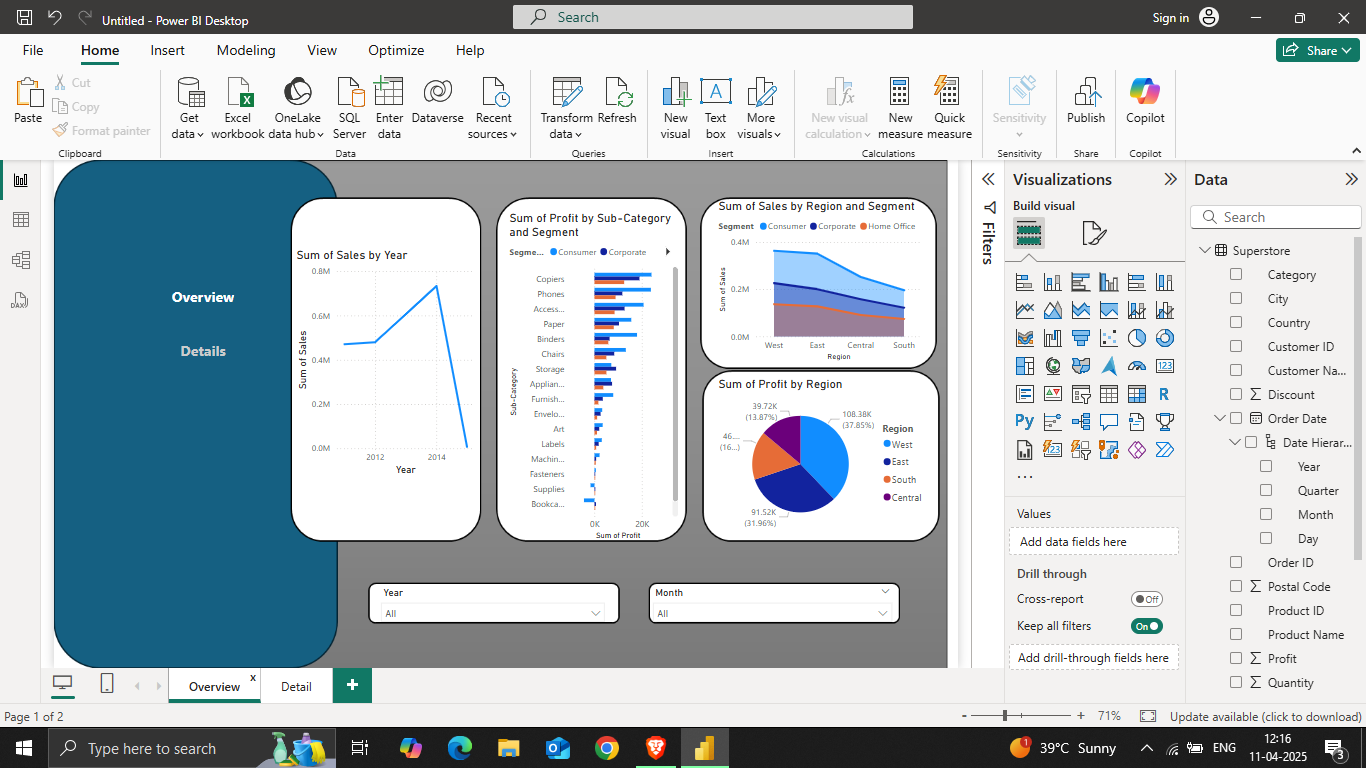

The page's visual inventory and layout, read from the dashboard file:
{"tool":"powerbi","page":{"name":"Overview","canvas":[1280,720],"ordinal":0},"visuals":[{"type":"lineChart","fields":{"Category":["Superstore.Ship Date.Variation.Date Hierarchy.Year","Superstore.Ship Date.Variation.Date Hierarchy.Quarter","Superstore.Ship Date.Variation.Date Hierarchy.Month","Superstore.Ship Date.Variation.Date Hierarchy.Day"],"Y":["Sum(Superstore.Sales)"]},"box":[338.7,124.7,265,327.4],"z":0},{"type":"areaChart","fields":{"Category":["Superstore.Region"],"Series":["Superstore.Segment"],"Y":["Sum(Superstore.Sales)"]},"box":[936.9,55.3,297.6,233.9],"z":1},{"type":"pieChart","fields":{"Category":["Superstore.Region"],"Y":["Sum(Superstore.Profit)"]},"box":[936.9,307.6,307.6,228.2],"z":2},{"type":"clusteredBarChart","fields":{"Category":["Superstore.Sub-Category"],"Y":["Sum(Superstore.Profit)"],"Series":["Superstore.Segment"]},"box":[640.6,72.3,249.4,470.6],"z":3},{"type":"slicer","fields":{"Values":["Superstore.Order Date.Variation.Date Hierarchy.Year"]},"box":[453.5,599.5,337.3,55.3],"z":4},{"type":"slicer","fields":{"Values":["Superstore.Order Date.Variation.Date Hierarchy.Month"]},"box":[839.1,599.5,358.6,55.3],"z":5},{"type":"actionButton","box":[110.6,172.9,201.3,39.7],"z":6},{"type":"actionButton","box":[110.6,249.4,201.3,39.7],"z":7}]}

Visuals, with their boxes on the page's 1280x720 design canvas (x1, y1, x2, y2). These are canvas units, not pixel positions in the 1366x768 screenshot, which may show the page scaled, cropped or inside an application window:
lineChart - Superstore.Ship Date.Variation.Date Hierarchy.Year x Superstore.Ship Date.Variation.Date Hierarchy.Quarter: detection(339, 125, 604, 452)
areaChart - Superstore.Region x Superstore.Segment: detection(937, 55, 1234, 289)
pieChart - Superstore.Region x Sum(Superstore.Profit): detection(937, 308, 1244, 536)
clusteredBarChart - Superstore.Sub-Category x Sum(Superstore.Profit): detection(641, 72, 890, 543)
slicer - Superstore.Order Date.Variation.Date Hierarchy.Year: detection(454, 600, 791, 655)
slicer - Superstore.Order Date.Variation.Date Hierarchy.Month: detection(839, 600, 1198, 655)
actionButton: detection(111, 173, 312, 213)
actionButton: detection(111, 249, 312, 289)
